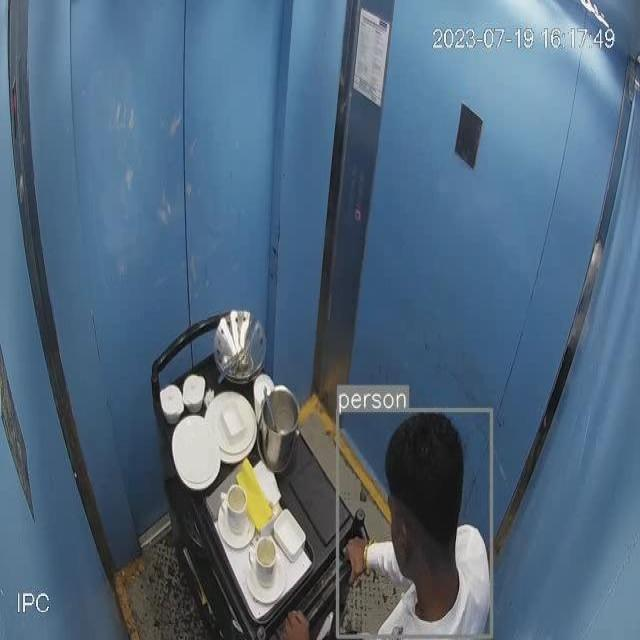person: (341, 414, 490, 640)
